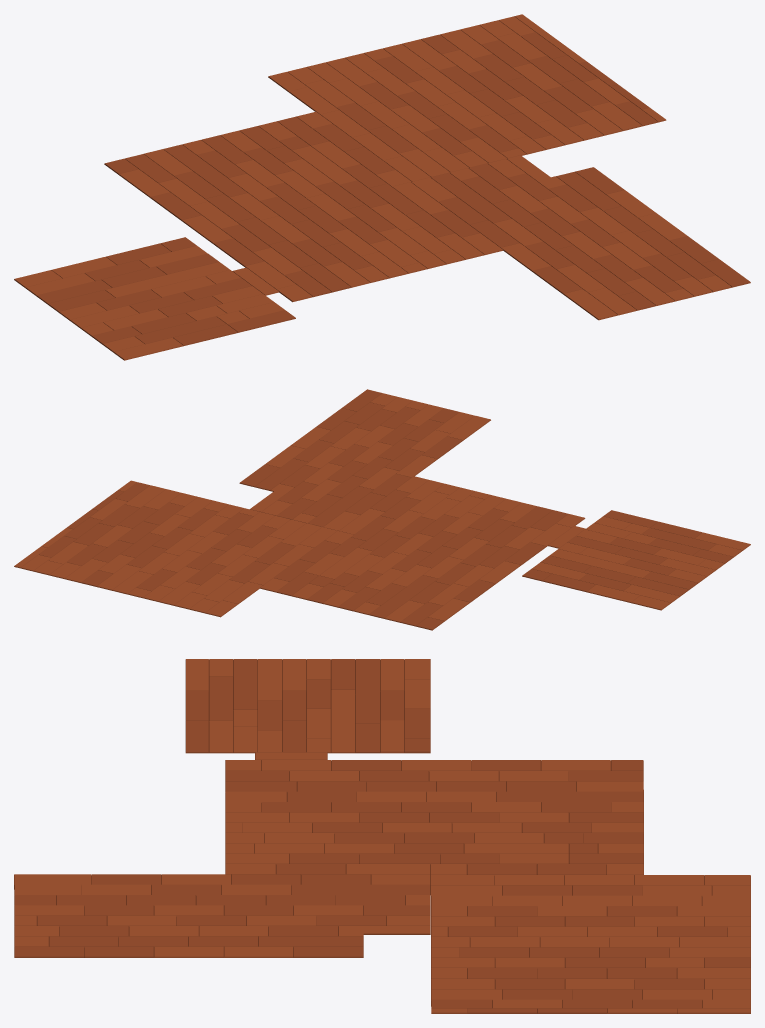
The model's file is Parquet.FBX.
3 views of the same model, one above another, from view 1: azimuth 30°, elevation 25°; view 2: azimuth 150°, elevation 25°; view 3: azimuth 270°, elevation 25° (orthographic). The views are drawn at different scales.
Visible parts, largest first — view 1: Parquet; view 2: Parquet; view 3: Parquet.
Boxes of the visible parts, <box> form: Parquet: <box>14,14,750,360</box>; Parquet: <box>14,389,750,630</box>; Parquet: <box>14,659,750,1013</box>.
Size of the model in its own units: 270 by 0.4334 by 238.
